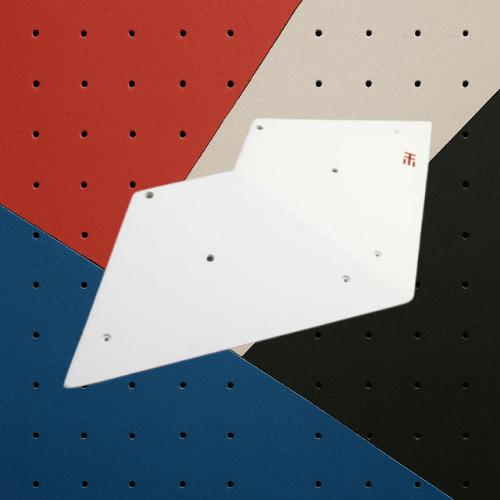Volume: (62, 116, 432, 390)
